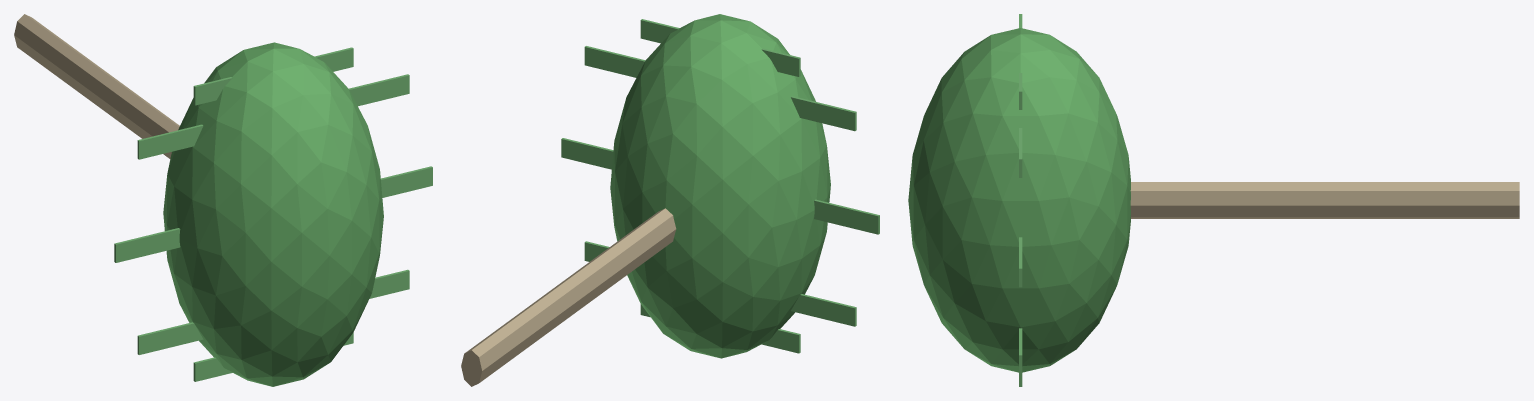
The model's file is curated_palm_tree.glb.
3 views of the same model, side by side, from view 1: azimuth 30°, elevation 25°; view 2: azimuth 150°, elevation 25°; view 3: azimuth 270°, elevation 25° (orthographic).
Visible parts, largest first — view 1: geometry_0; view 2: geometry_0; view 3: geometry_0.
Boxes of the visible parts, <box> form: geometry_0: <box>14,14,432,386</box>; geometry_0: <box>461,14,879,386</box>; geometry_0: <box>908,14,1519,386</box>.
Size of the model in its own units: 6 by 6 by 10.
